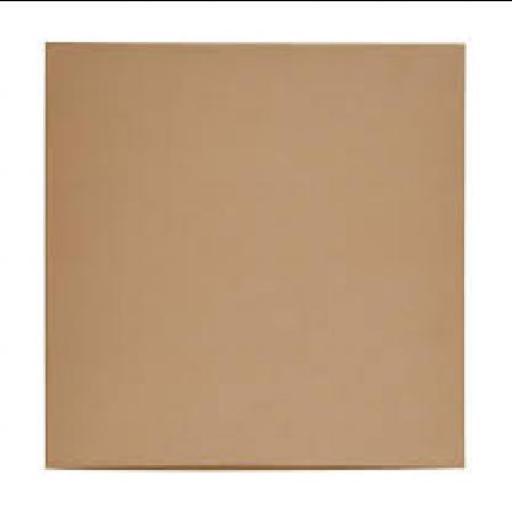cardboard: (41, 38, 464, 467)
